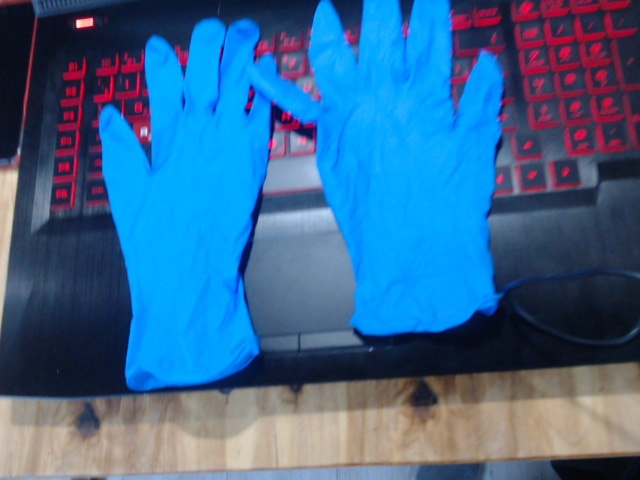medical_glove: (249, 1, 502, 332), (97, 17, 277, 390)
